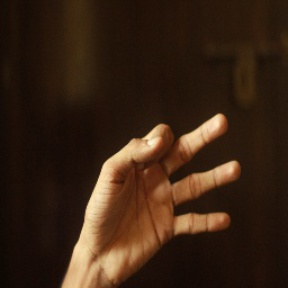K: (81, 111, 243, 260)
